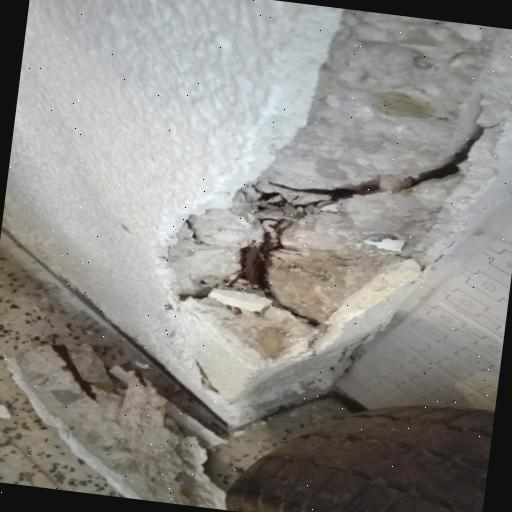spalling: (168, 17, 512, 367)
